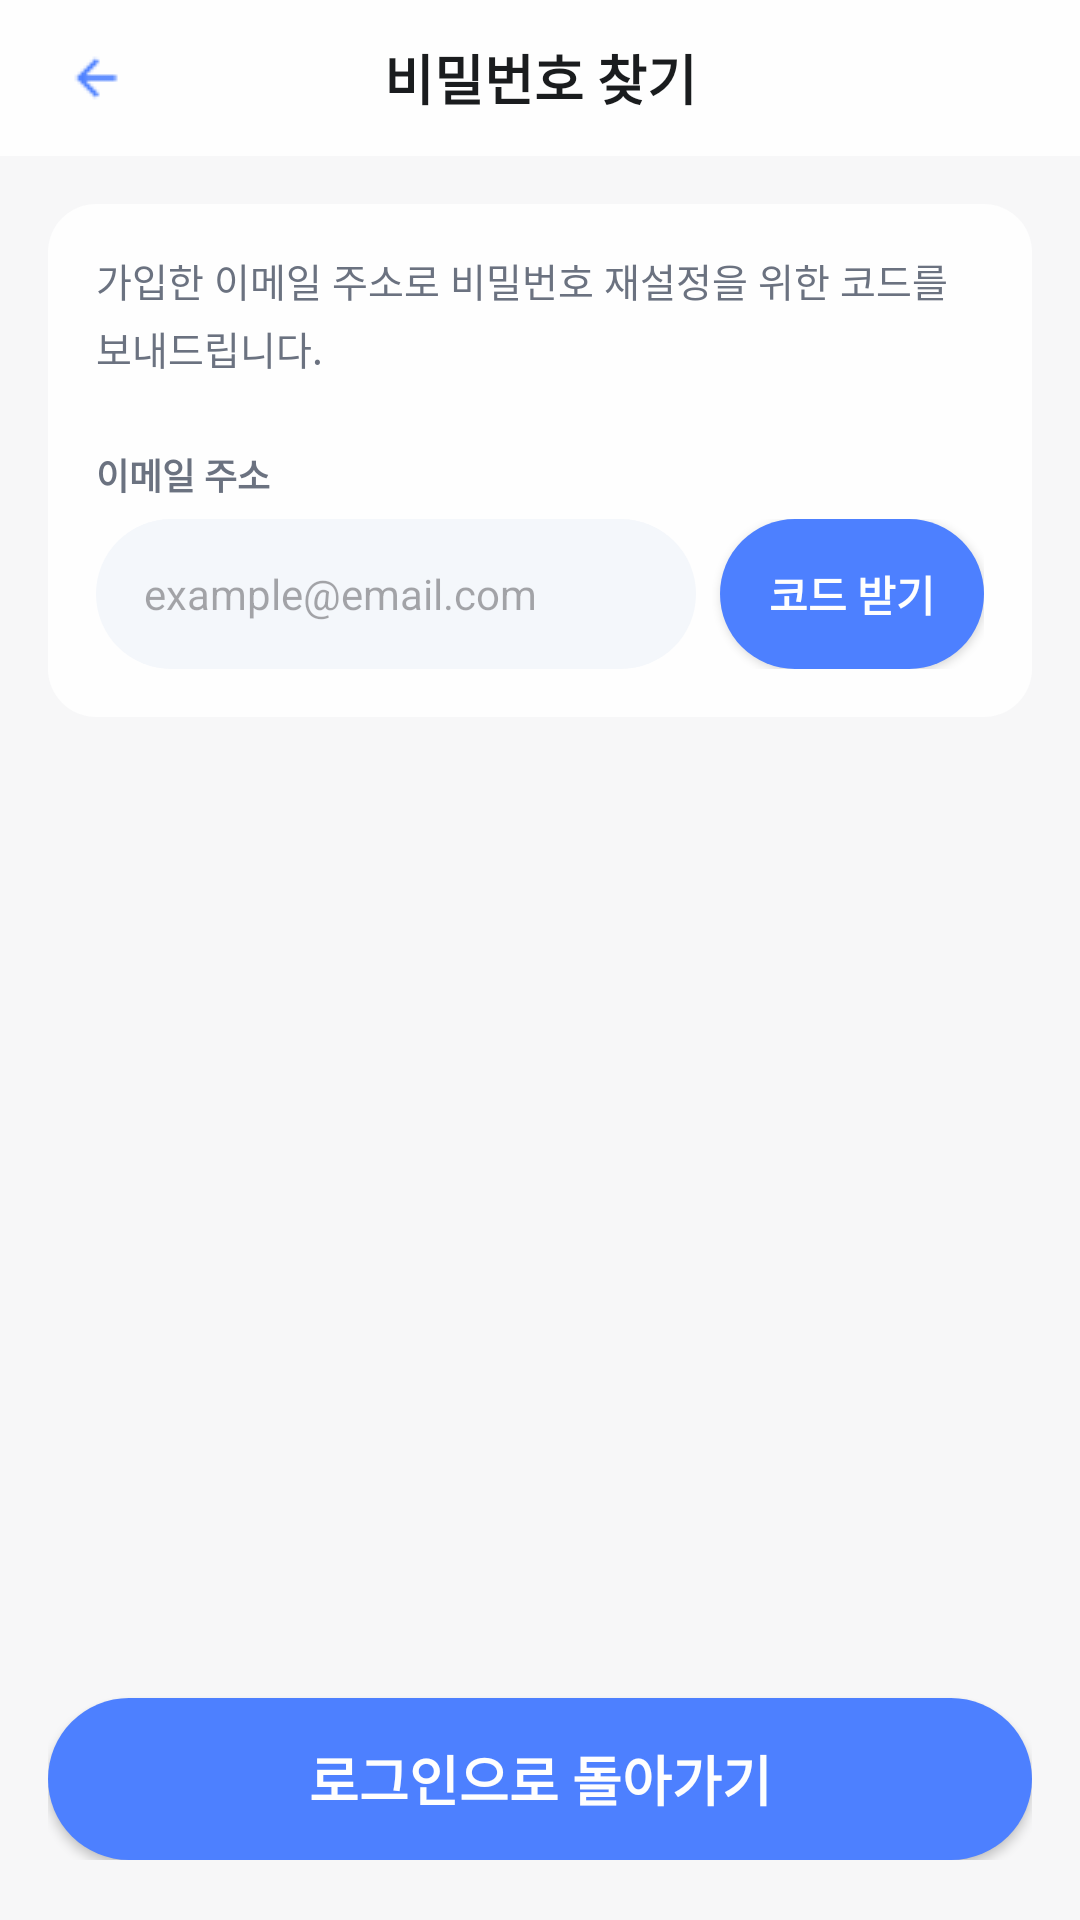

Icons on this 1080×1920 Android screen, each with its box as (x1, y1, x2, y2):
뒤로가기: (76, 58, 118, 98)
